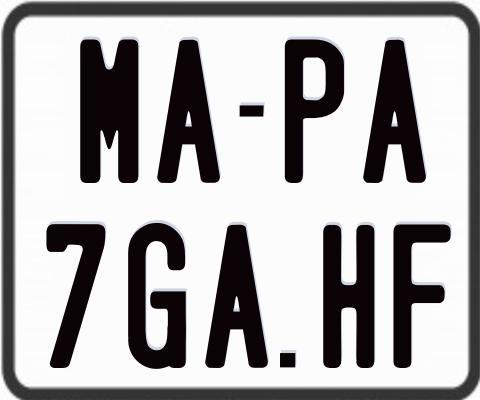7: (45, 223, 110, 371)
A: (156, 39, 224, 184), (204, 222, 268, 366), (362, 39, 425, 184)
F: (393, 221, 454, 366)
G: (125, 222, 185, 370)
H: (321, 224, 377, 372)
M: (78, 39, 141, 183)
P: (282, 36, 347, 181)
